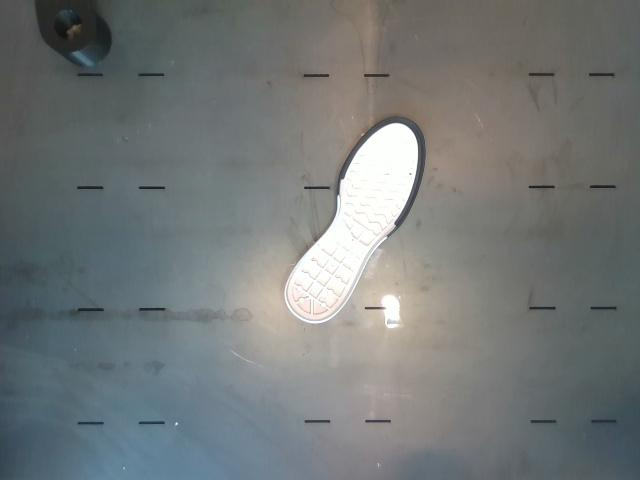shoes: (286, 119, 423, 321)
